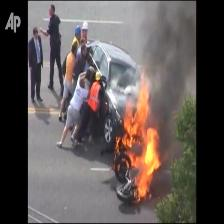fire: (113, 82, 161, 202)
